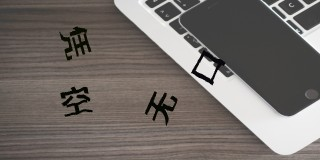凭: (58, 26, 91, 60)
口: (191, 50, 225, 85)
无: (143, 90, 178, 125)
空: (59, 86, 96, 117)
